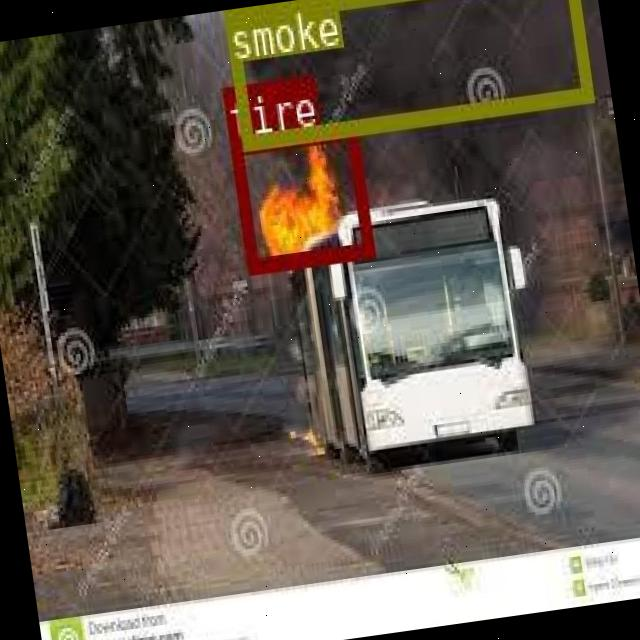fire: (229, 122, 372, 274)
smoke: (223, 0, 592, 146)
